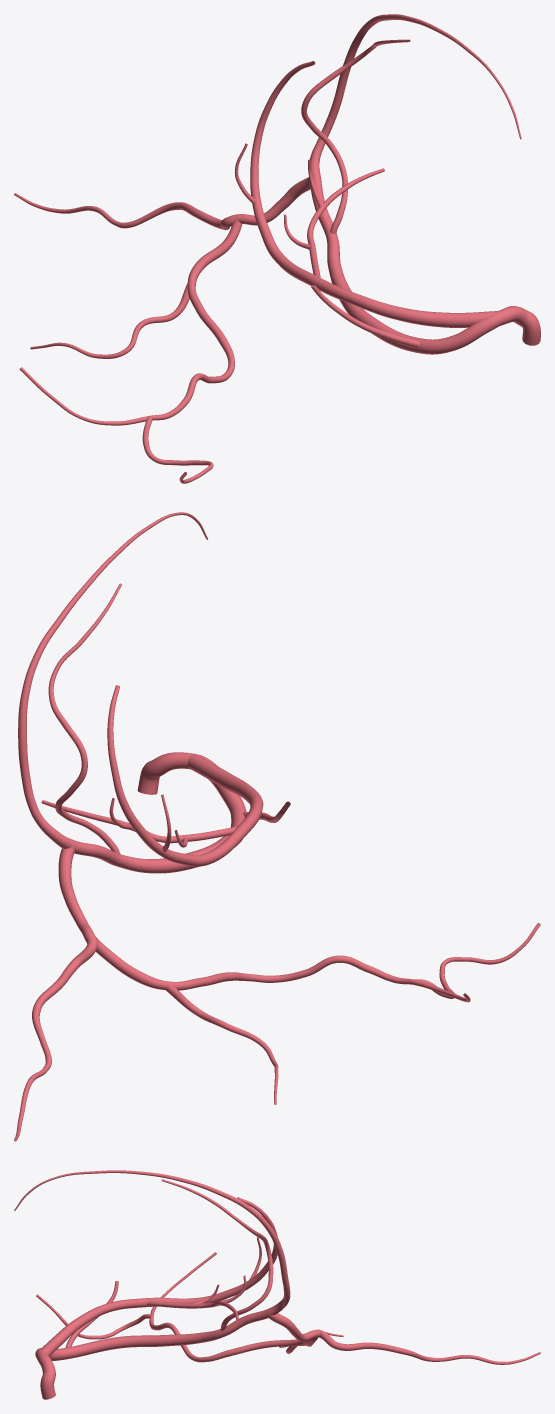
3 views of the same model, one above another, from view 1: azimuth 30°, elevation 25°; view 2: azimuth 150°, elevation 25°; view 3: azimuth 270°, elevation 25° (orthographic). The views are drawn at different scales.
Parts seen in each view (by area): view 1: ZA_83382f78ad0a3e18; view 2: ZA_83382f78ad0a3e18; view 3: ZA_83382f78ad0a3e18.
Part boxes in pixels (box(x1,y1,x2,y2)): ZA_83382f78ad0a3e18: box(14, 14, 540, 483); ZA_83382f78ad0a3e18: box(14, 512, 540, 1141); ZA_83382f78ad0a3e18: box(14, 1170, 540, 1399).
Size of the model in its own units: 0.0566 by 0.0467 by 0.0817.
